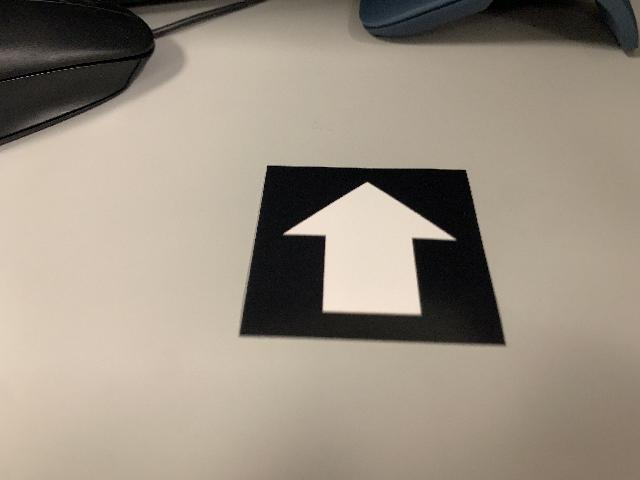up_arrow: (234, 160, 509, 349)
